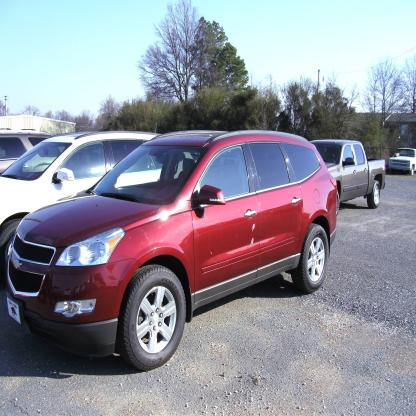car: (3, 125, 340, 372)
